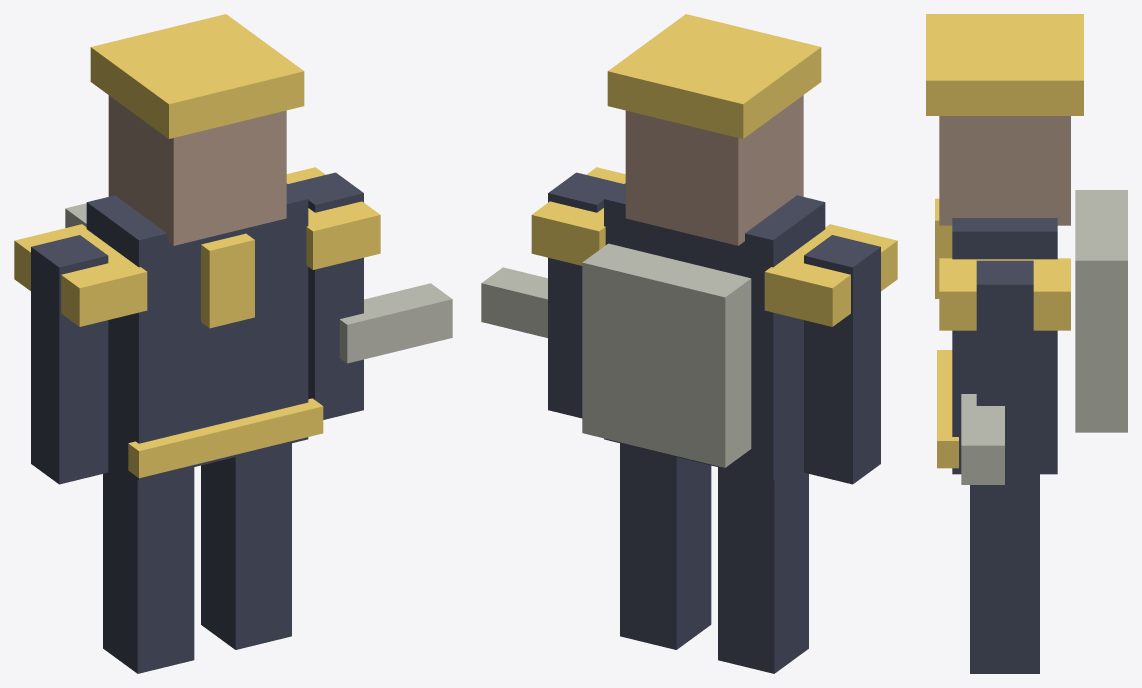
Rendered from 14_brant_frostrelay_courier_near_skyway.glb.
The picture shows the model from 3 angles, left to right: view 1: azimuth 30°, elevation 25°; view 2: azimuth 150°, elevation 25°; view 3: azimuth 270°, elevation 25°; orthographic projection.
Parts seen in each view (by area): view 1: Brant Frostrelay, Courier near Skyway; view 2: Brant Frostrelay, Courier near Skyway; view 3: Brant Frostrelay, Courier near Skyway.
Boxes of the visible parts, x1,y1,x2,y2 form: Brant Frostrelay, Courier near Skyway: [14, 14, 452, 673]; Brant Frostrelay, Courier near Skyway: [481, 14, 897, 673]; Brant Frostrelay, Courier near Skyway: [926, 14, 1127, 673].
Bounding box in the file's own units: 1.08 × 1.55 × 0.4826.
